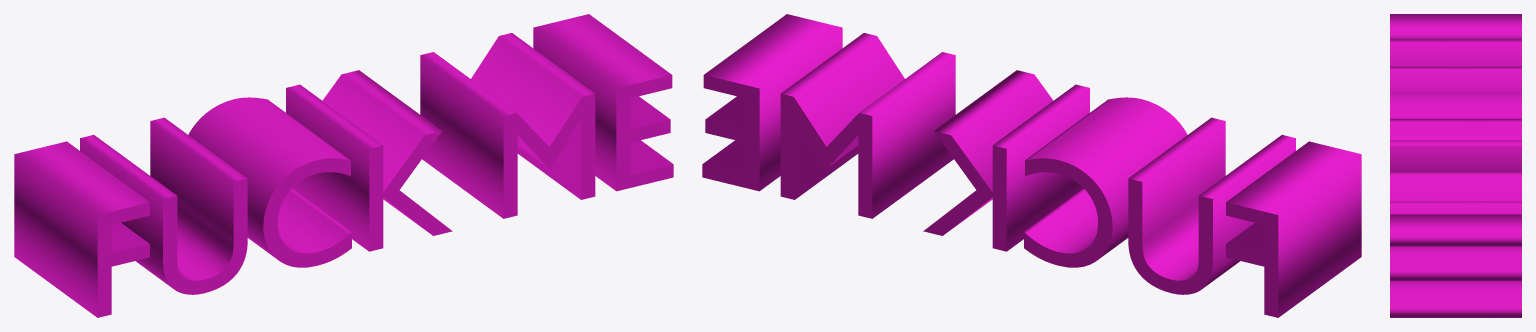
The model's file is Lust1.fbx.
3 views of the same model, side by side, from view 1: azimuth 30°, elevation 25°; view 2: azimuth 150°, elevation 25°; view 3: azimuth 270°, elevation 25° (orthographic). The views are drawn at different scales.
Parts seen in each view (by area): view 1: Text; view 2: Text; view 3: Text.
Part boxes in pixels (bbox=[...]): Text: bbox=[14, 14, 673, 317]; Text: bbox=[702, 14, 1361, 317]; Text: bbox=[1390, 14, 1521, 317].
Bounding box in the file's own units: 400 × 70 × 100.
